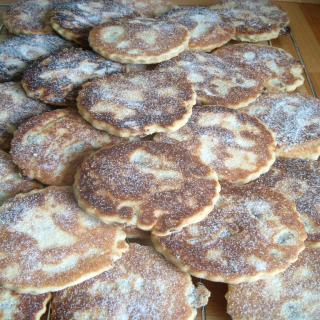Cookie: (0, 0, 320, 320), (74, 72, 198, 136)
Pancake: (0, 0, 320, 183), (0, 158, 320, 320), (76, 141, 216, 236), (74, 72, 198, 136)
